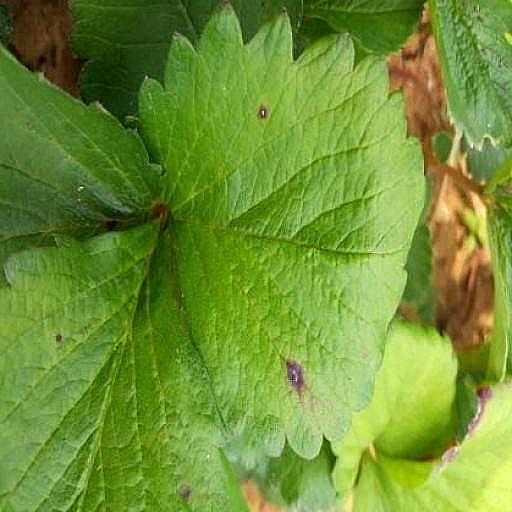Leaf Spot: (86, 53, 374, 511), (261, 0, 511, 299), (348, 251, 511, 469)
